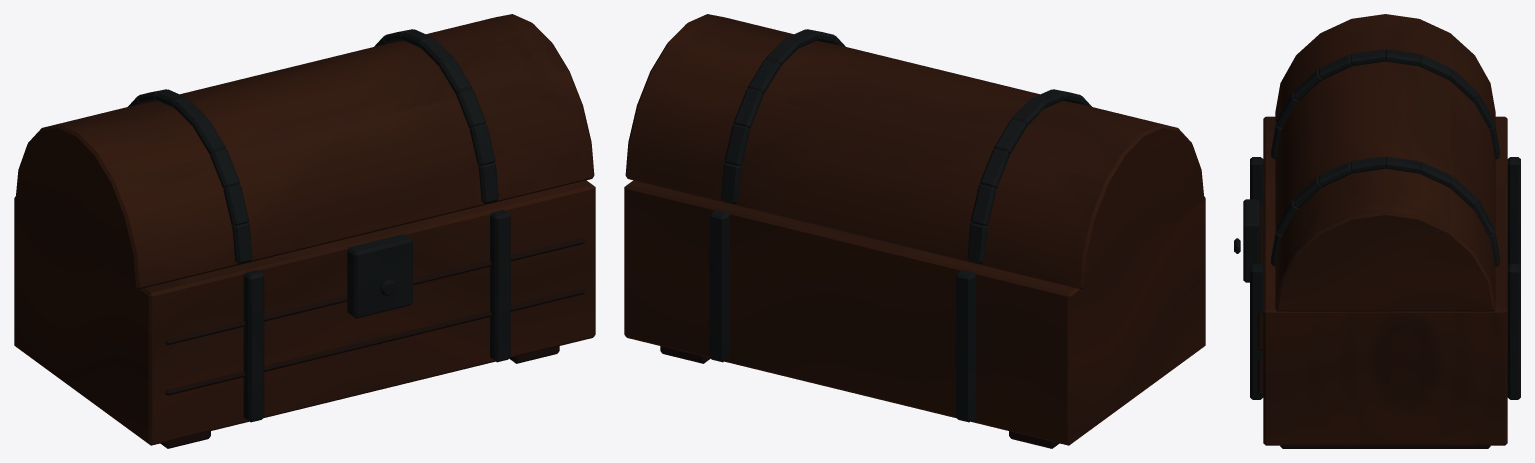
The model's file is chest_burgher_household.glb.
3 renders of one model, left to right at view 1: azimuth 30°, elevation 25°; view 2: azimuth 150°, elevation 25°; view 3: azimuth 270°, elevation 25°, orthographic. The views are drawn at different scales.
Parts seen in each view (by area): view 1: BurgherHouseholdChestMesh; view 2: BurgherHouseholdChestMesh; view 3: BurgherHouseholdChestMesh.
Part boxes in pixels (left/top/right/bottom): BurgherHouseholdChestMesh: left=14, top=14, right=595, bottom=448; BurgherHouseholdChestMesh: left=624, top=14, right=1205, bottom=448; BurgherHouseholdChestMesh: left=1234, top=14, right=1520, bottom=448.
Bounding box in the file's own units: 1 × 0.6075 × 0.61.
3 materials, 3 textured.
